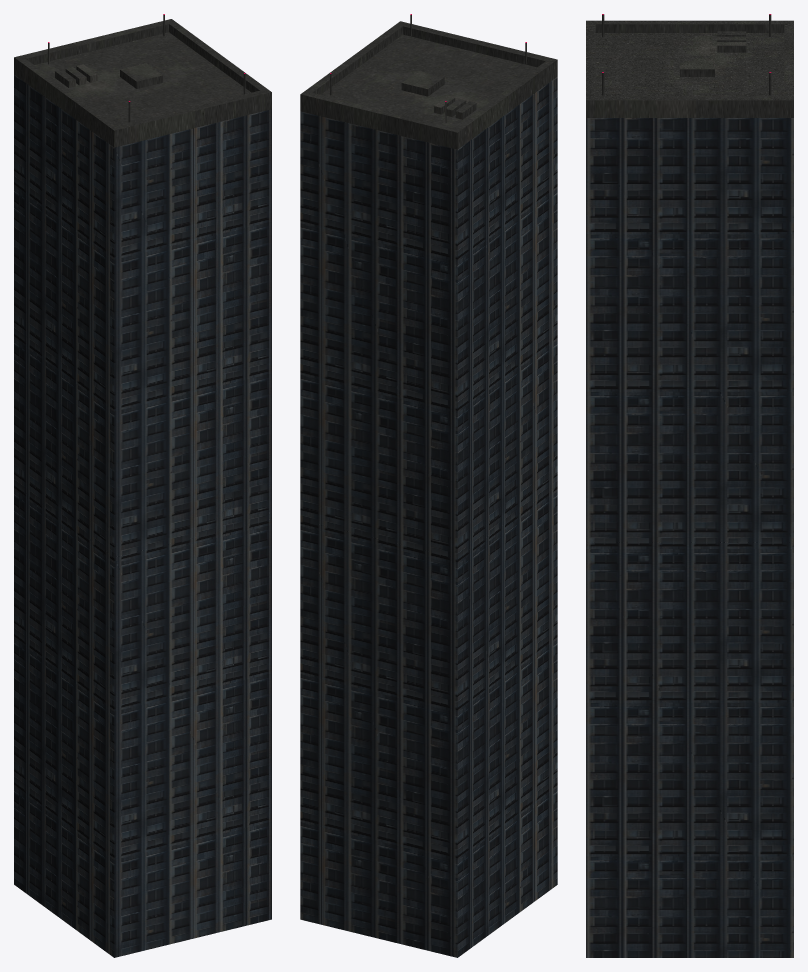
The model's file is dark_skyscraper_new2.glb.
3 views of the same model, side by side, from view 1: azimuth 30°, elevation 25°; view 2: azimuth 150°, elevation 25°; view 3: azimuth 270°, elevation 25° (orthographic). The views are drawn at different scales.
Visible parts, largest first — view 1: dark-skyscraper.014; view 2: dark-skyscraper.014; view 3: dark-skyscraper.014.
Boxes of the visible parts, left/top/right/bottom form: dark-skyscraper.014: left=14, top=14, right=271, bottom=957; dark-skyscraper.014: left=300, top=14, right=557, bottom=957; dark-skyscraper.014: left=586, top=14, right=793, bottom=957.
Size of the model in its own units: 41.63 by 213 by 45.83.
Materials: 3 (2 with a texture image).
